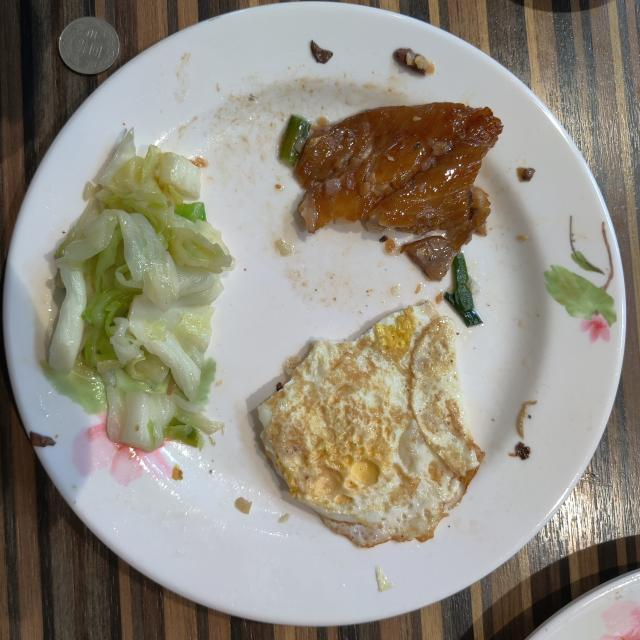Kabayaki sea bream fillet: (295, 102, 502, 250), (401, 236, 455, 281)
cabbage: (49, 135, 234, 450)
coin: (59, 16, 120, 74)
